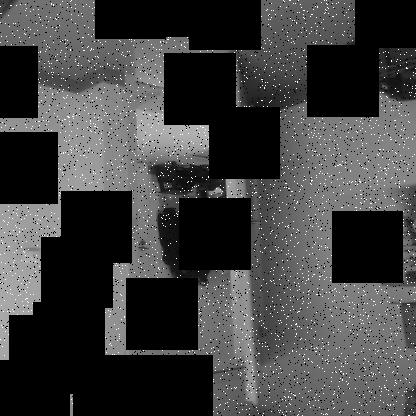Porte: (124, 48, 264, 407)
